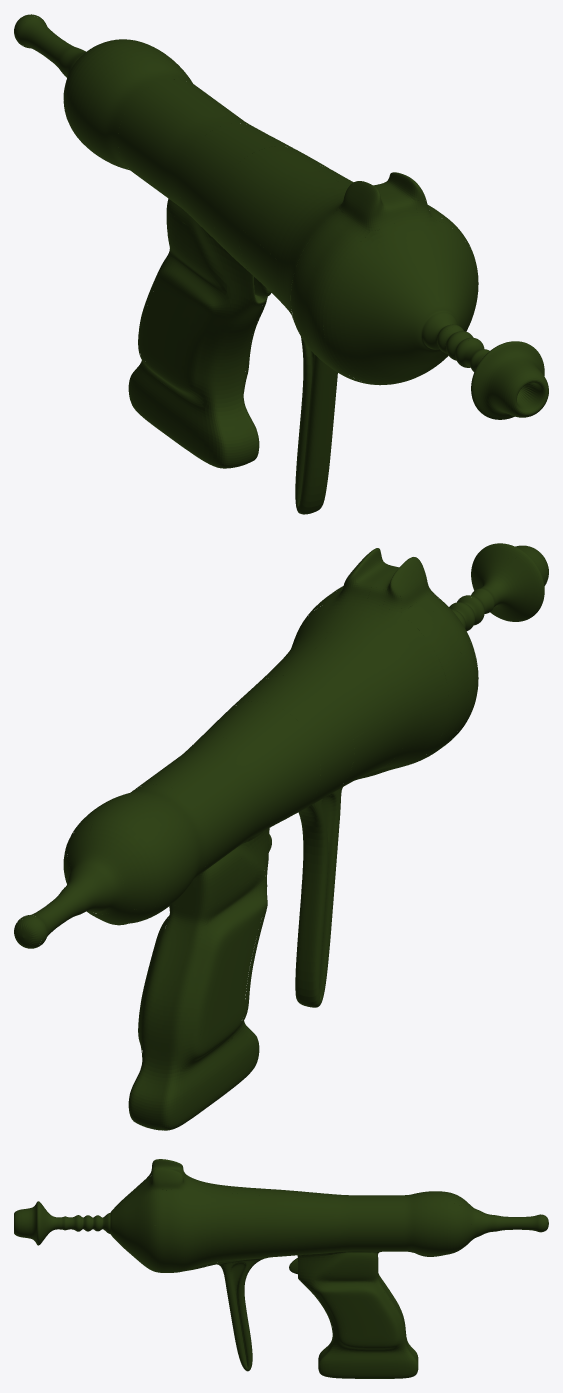
The model's file is atom_blaster.glb.
3 renders of one model, top to bottom at view 1: azimuth 30°, elevation 25°; view 2: azimuth 150°, elevation 25°; view 3: azimuth 270°, elevation 25°, orthographic. The views are drawn at different scales.
Visible parts, largest first — view 1: Cylinder; view 2: Cylinder; view 3: Cylinder.
Boxes of the visible parts, left/top/right/bottom form: Cylinder: left=14, top=14, right=548, bottom=514; Cylinder: left=14, top=543, right=548, bottom=1130; Cylinder: left=14, top=1159, right=548, bottom=1378.
Size of the model in its own units: 4.1 by 9.6 by 21.92.
